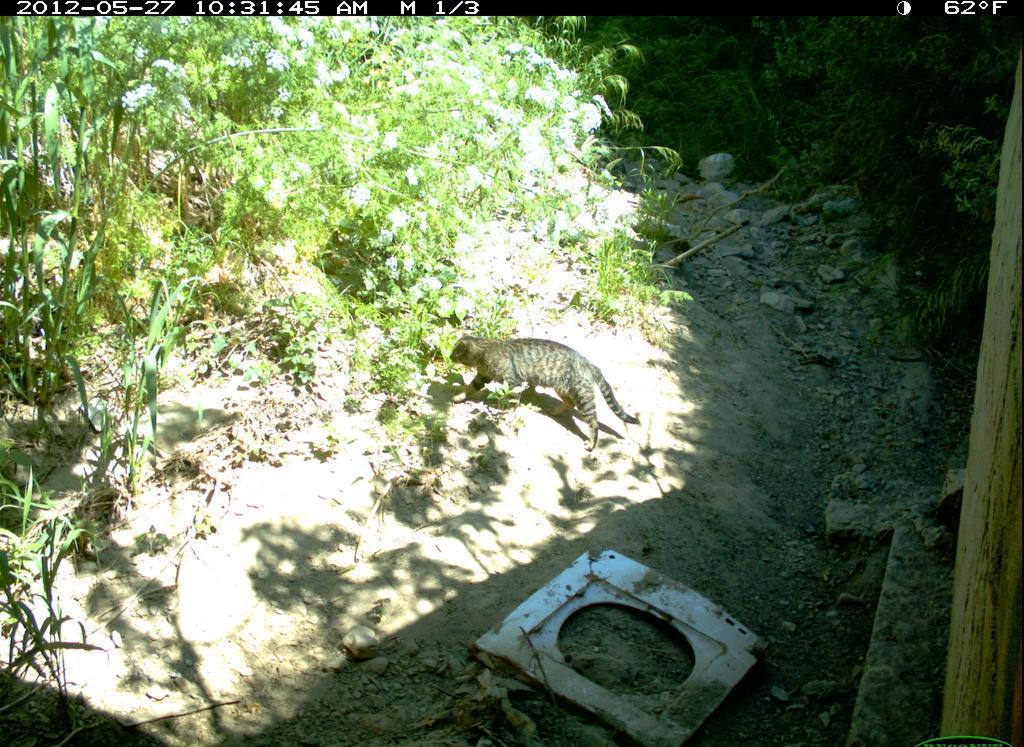cat: (443, 323, 646, 459)
